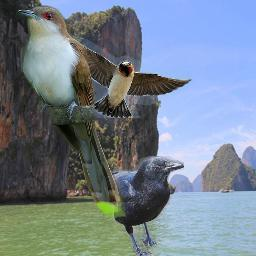Crow: (92, 156, 184, 256)
Cuckoo: (16, 5, 126, 218)
Swallow: (62, 29, 192, 118)
